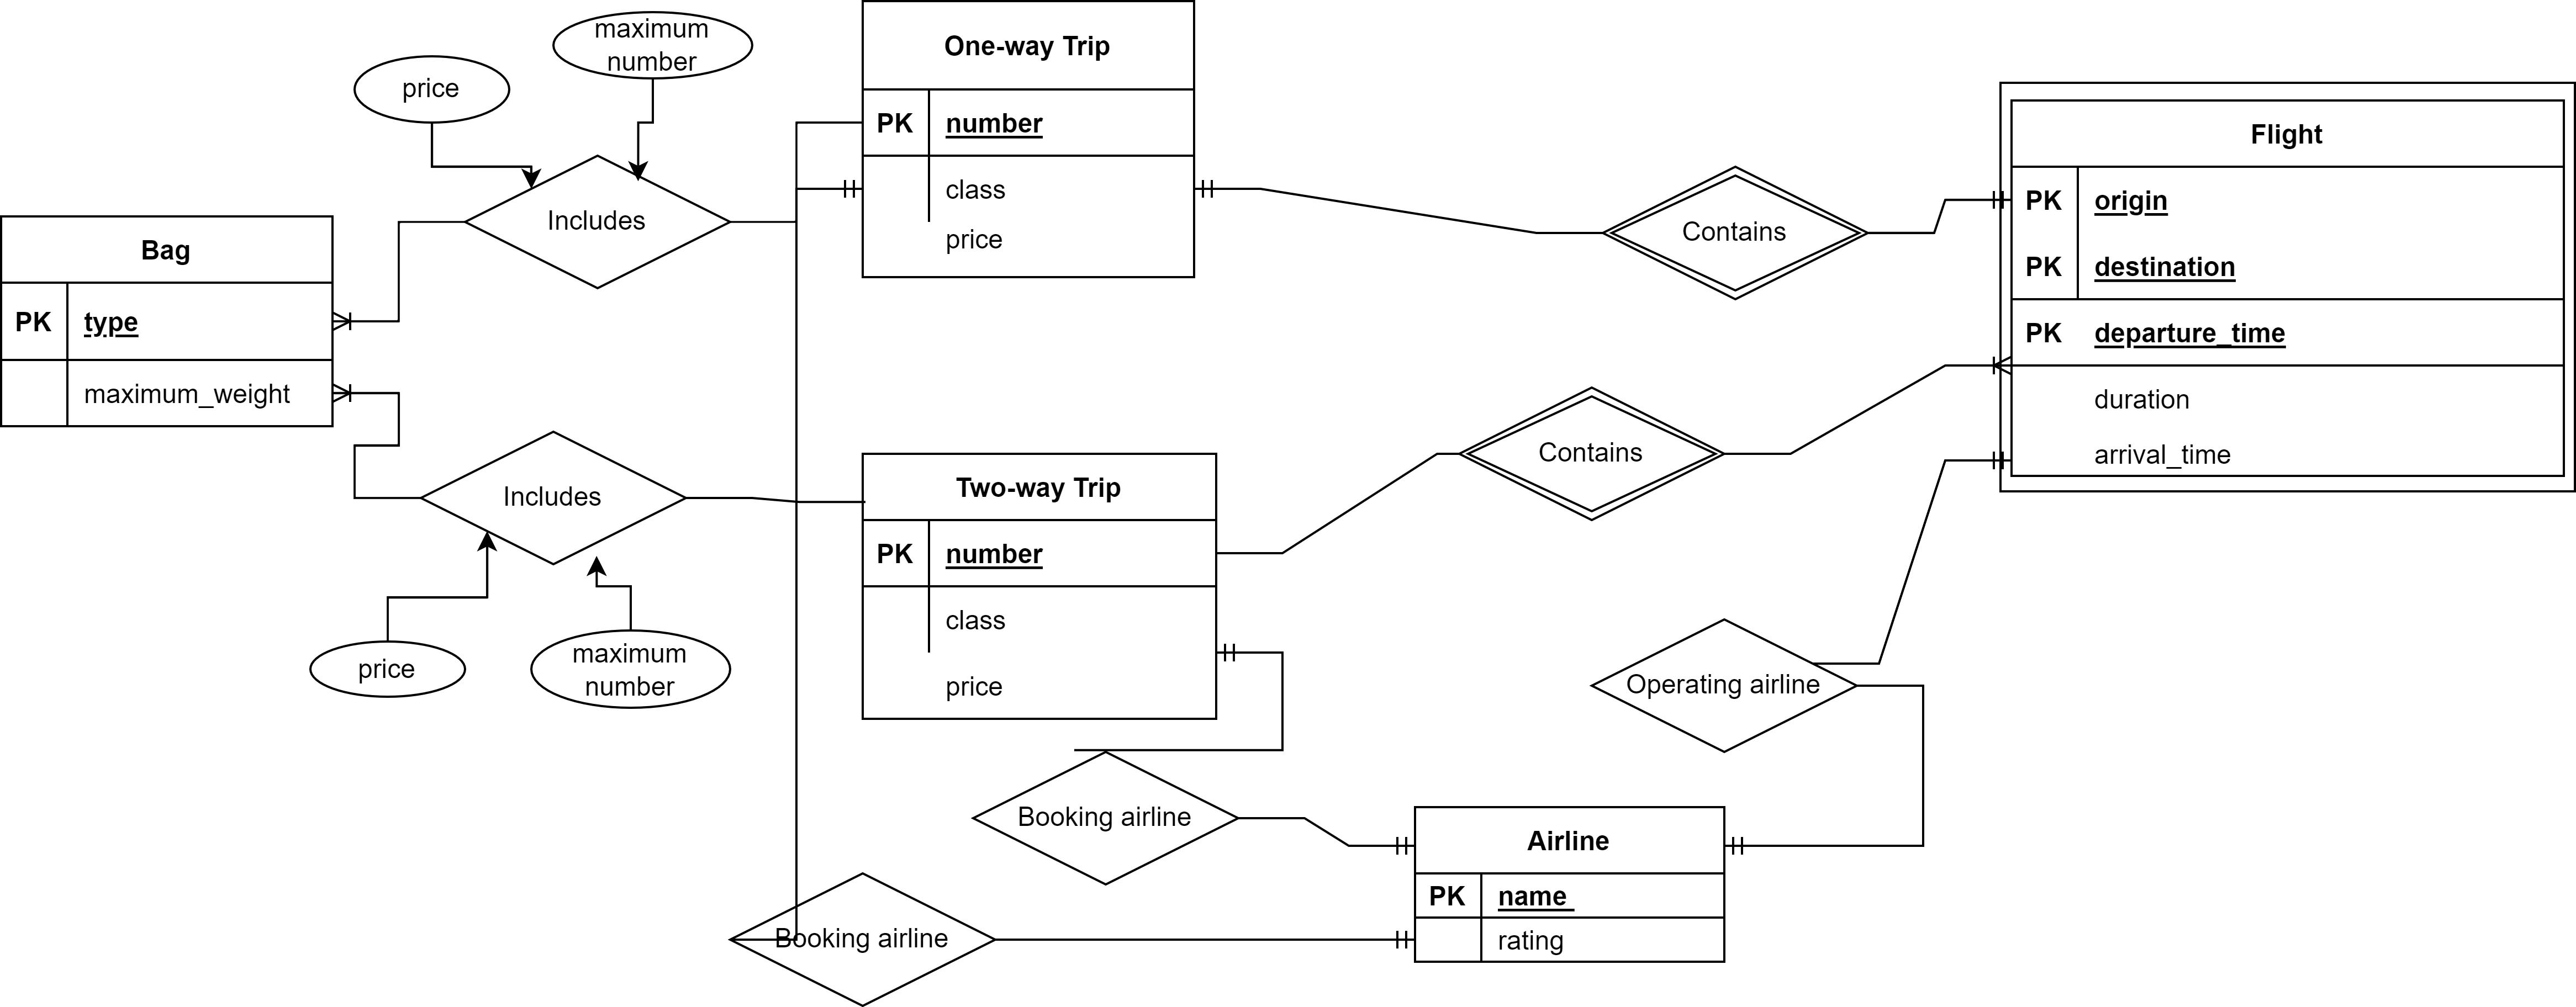attribute: (529, 629, 729, 708), (552, 10, 756, 77), (350, 57, 509, 123), (307, 642, 467, 697)
entity: (858, 450, 1221, 723), (859, 5, 1199, 283), (0, 212, 335, 429), (1410, 803, 1727, 966)
relationship: (460, 159, 729, 292), (973, 756, 1240, 885), (421, 430, 685, 560), (1589, 624, 1856, 752), (733, 876, 991, 1007)
weakentity: (1994, 72, 2576, 499)
weakrelationship: (1460, 389, 1725, 519), (1605, 168, 1865, 296)
